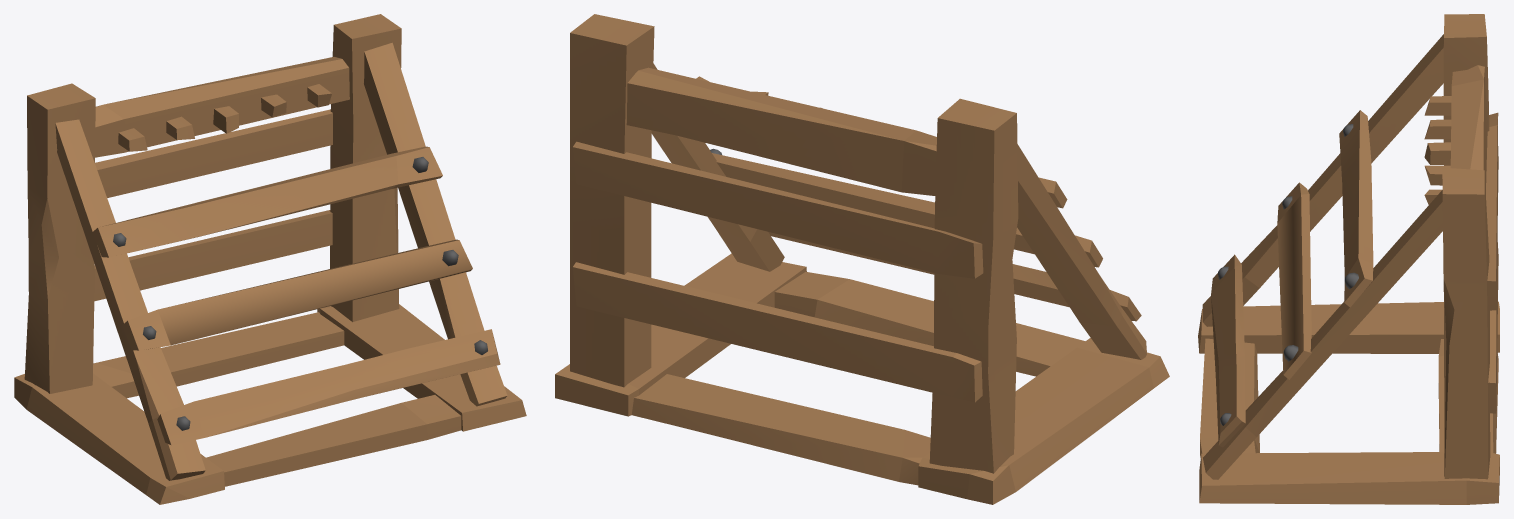
File: WeaponRack_E.fbx
3 views of the same model, side by side, from view 1: azimuth 30°, elevation 25°; view 2: azimuth 150°, elevation 25°; view 3: azimuth 270°, elevation 25° (orthographic). The views are drawn at different scales.
Parts seen in each view (by area): view 1: WeaponRack_E; view 2: WeaponRack_E; view 3: WeaponRack_E.
Boxes of the visible parts, <box> form: WeaponRack_E: <box>14,14,526,504</box>; WeaponRack_E: <box>555,14,1169,504</box>; WeaponRack_E: <box>1198,14,1499,504</box>.
Bounding box in the file's own units: 140 × 110 × 96.89.
